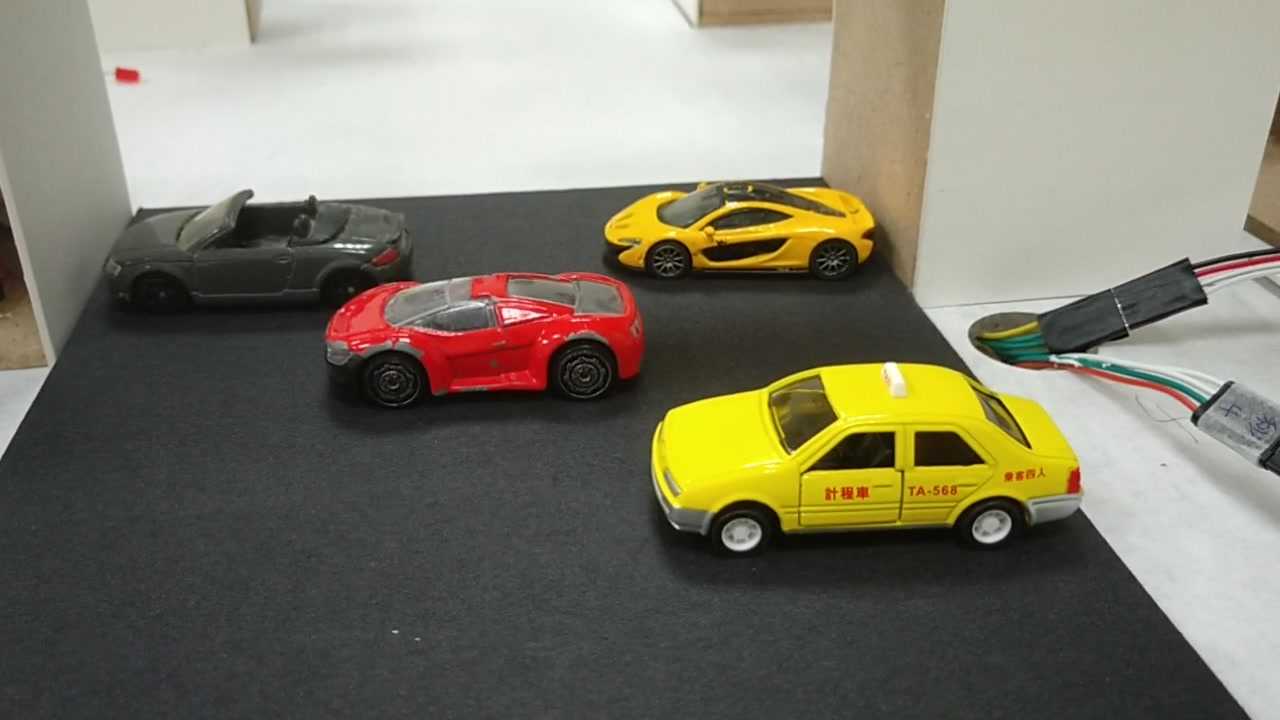car: (650, 363, 1085, 551), (341, 273, 637, 392), (113, 209, 408, 299), (612, 181, 872, 280)
